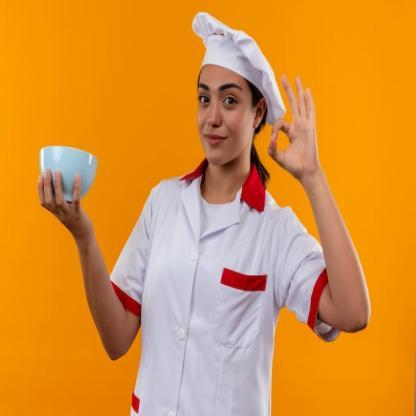ok: (266, 70, 320, 180)
